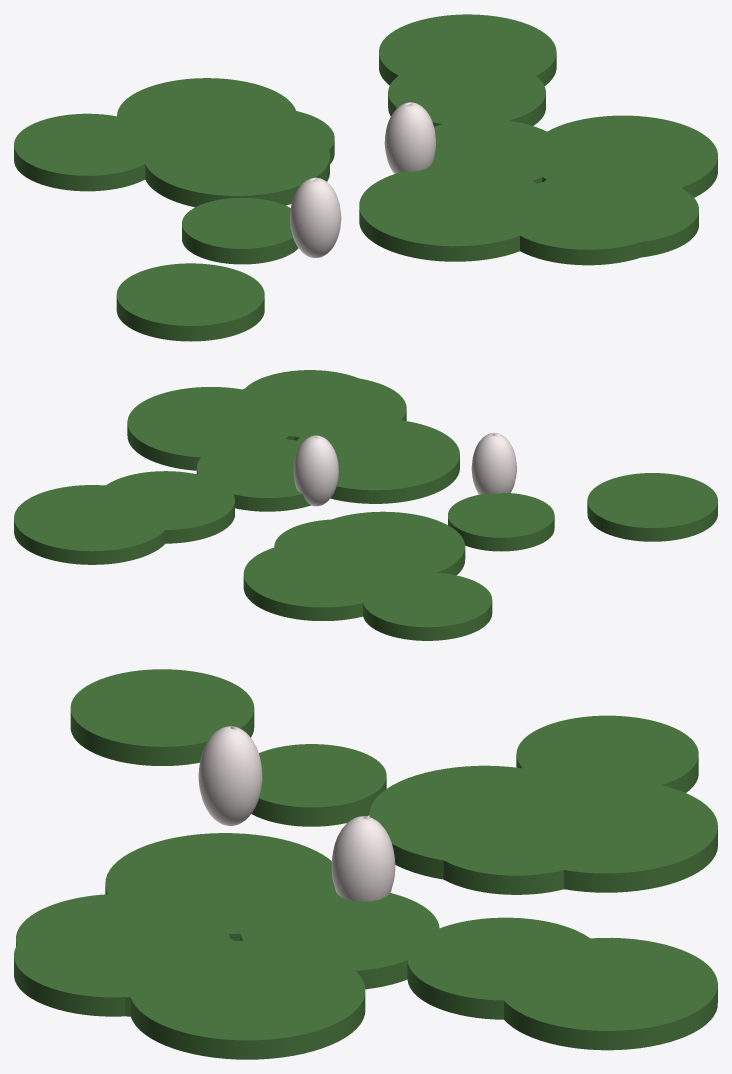
The model's file is f27-lily-pad-raft.glb.
The picture shows the model from 3 angles, top to bottom: view 1: azimuth 30°, elevation 25°; view 2: azimuth 150°, elevation 25°; view 3: azimuth 270°, elevation 25°; orthographic projection. The views are drawn at different scales.
Visible parts, largest first — view 1: part0, part2, part1; view 2: part0, part1, part2; view 3: part0, part2, part1.
Part boxes in pixels (bbox=[...]): part0: bbox=[14, 14, 717, 341]; part2: bbox=[290, 177, 341, 258]; part1: bbox=[384, 102, 435, 173]; part0: bbox=[14, 370, 717, 640]; part1: bbox=[293, 435, 338, 506]; part2: bbox=[471, 432, 516, 494]; part0: bbox=[14, 669, 717, 1059]; part2: bbox=[198, 726, 262, 825]; part1: bbox=[331, 816, 395, 901].
Bounding box in the file's own units: 3303 × 400 × 2648.
